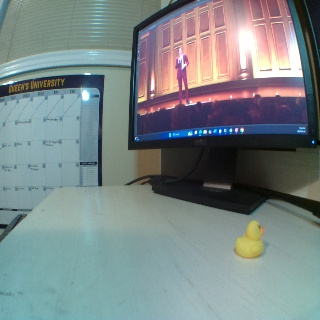duck_regular: (235, 218, 264, 258)
